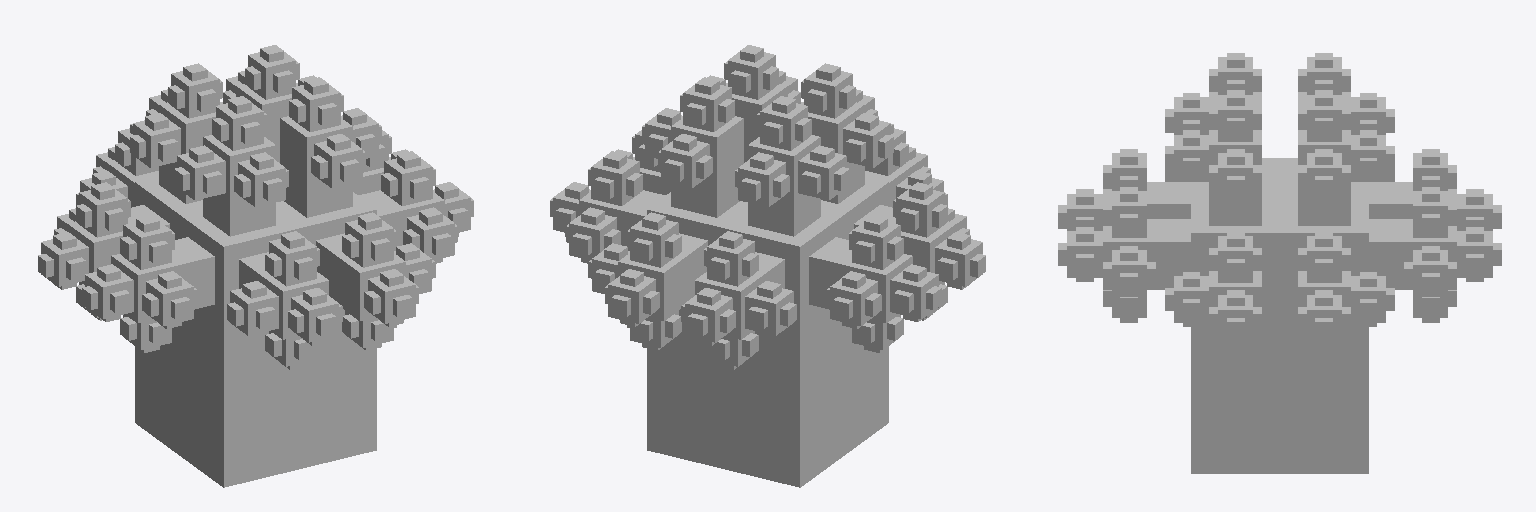
Rendered from tree.obj.
3 views of the same model, side by side, from view 1: azimuth 30°, elevation 25°; view 2: azimuth 150°, elevation 25°; view 3: azimuth 270°, elevation 25° (orthographic).
Parts seen in each view (by area): view 1: tree; view 2: tree; view 3: tree.
Boxes of the visible parts, <box> form: tree: <box>38,45,473,487</box>; tree: <box>550,45,985,487</box>; tree: <box>1058,53,1501,473</box>.
Bounding box in the file's own units: 50 × 45 × 50.